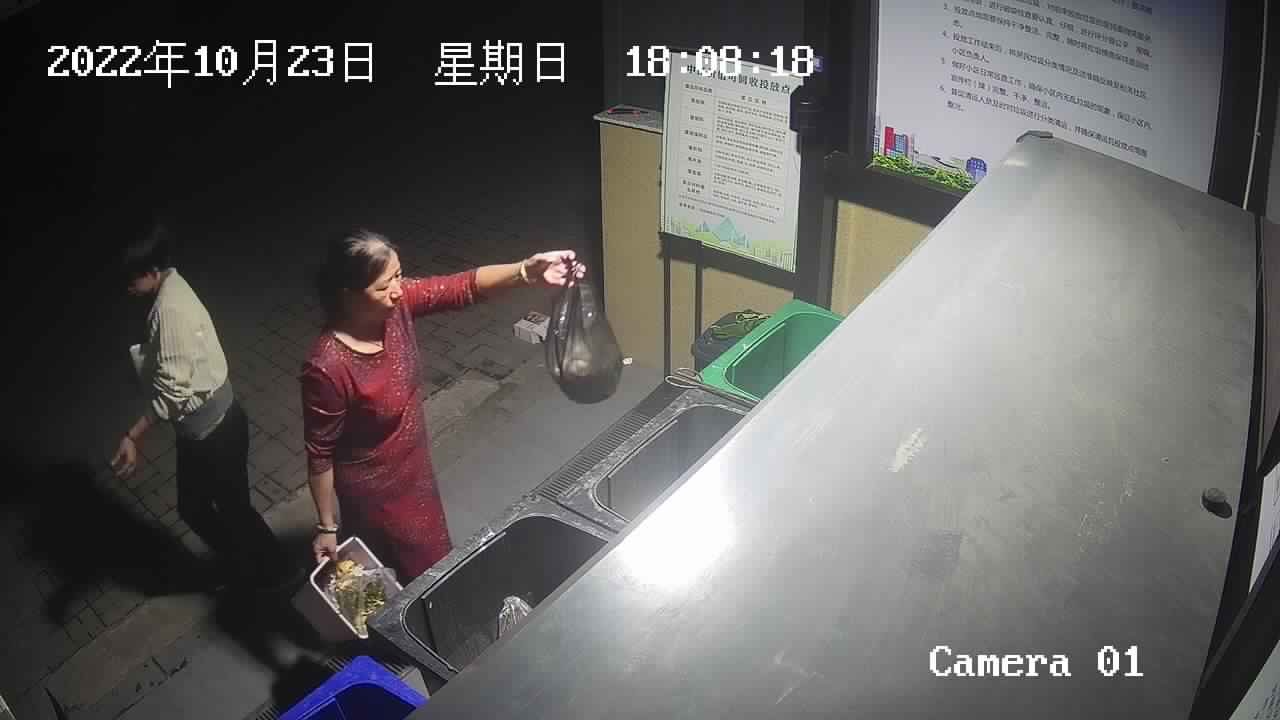garbage-bag: (542, 264, 624, 406)
person: (299, 227, 589, 588), (109, 218, 308, 592)
youtong: (288, 536, 407, 650)
